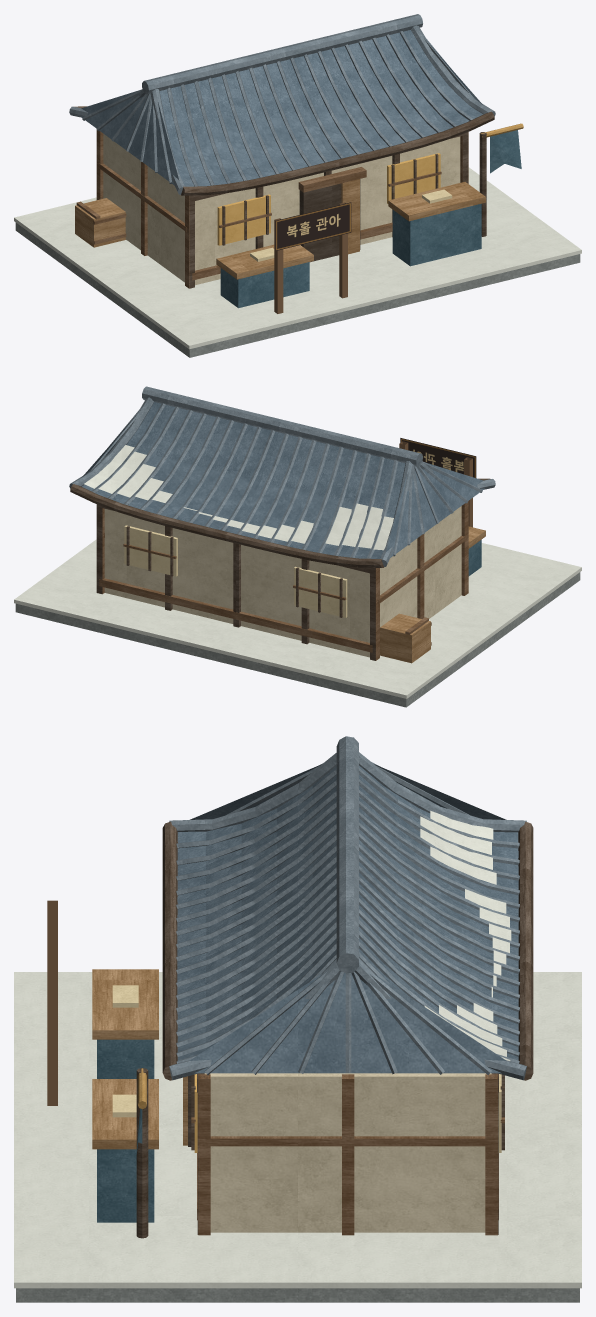
The model's file is BLD_OFFICE.glb.
3 views of the same model, one above another, from view 1: azimuth 30°, elevation 25°; view 2: azimuth 150°, elevation 25°; view 3: azimuth 270°, elevation 25° (orthographic). The views are drawn at different scales.
Parts seen in each view (by area): view 1: BLD_OFFICE, 복홀 관아 현판; view 2: BLD_OFFICE, 복홀 관아 현판; view 3: BLD_OFFICE, 복홀 관아 현판.
Part boxes in pixels (x1,y1,x2,y2): BLD_OFFICE: (14, 14, 581, 357); 복홀 관아 현판: (274, 202, 351, 313); BLD_OFFICE: (14, 386, 581, 707); 복홀 관아 현판: (399, 438, 476, 527); BLD_OFFICE: (14, 736, 581, 1302); 복홀 관아 현판: (47, 900, 57, 1105).
Size of the model in its own units: 7.04 by 3.25 by 5.44.
Materials: 14 (14 with a texture image).
